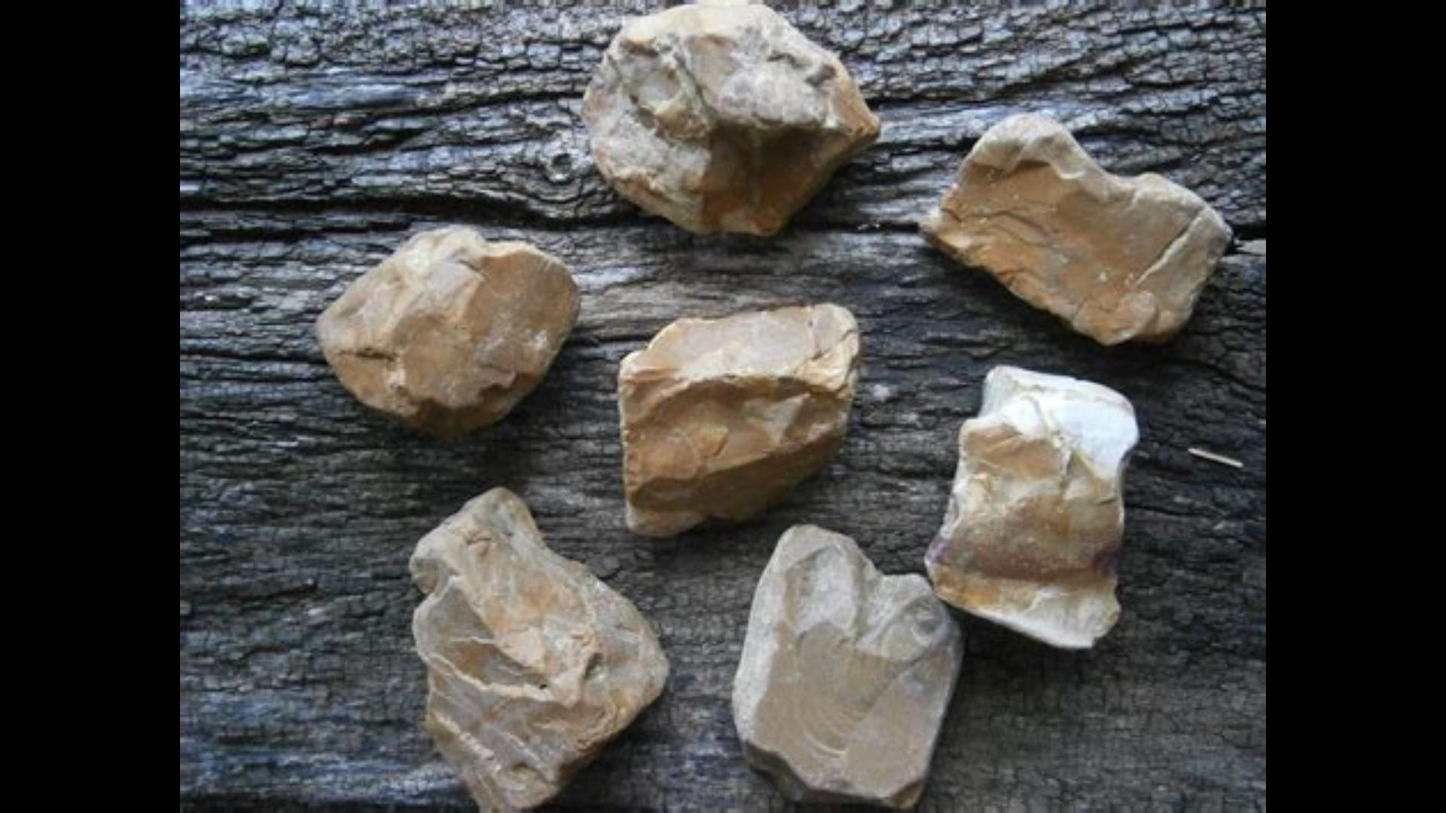rock: (411, 490, 668, 810), (574, 2, 883, 233), (924, 109, 1231, 340), (734, 525, 963, 811), (928, 371, 1137, 647), (618, 302, 856, 534), (322, 229, 580, 429)
